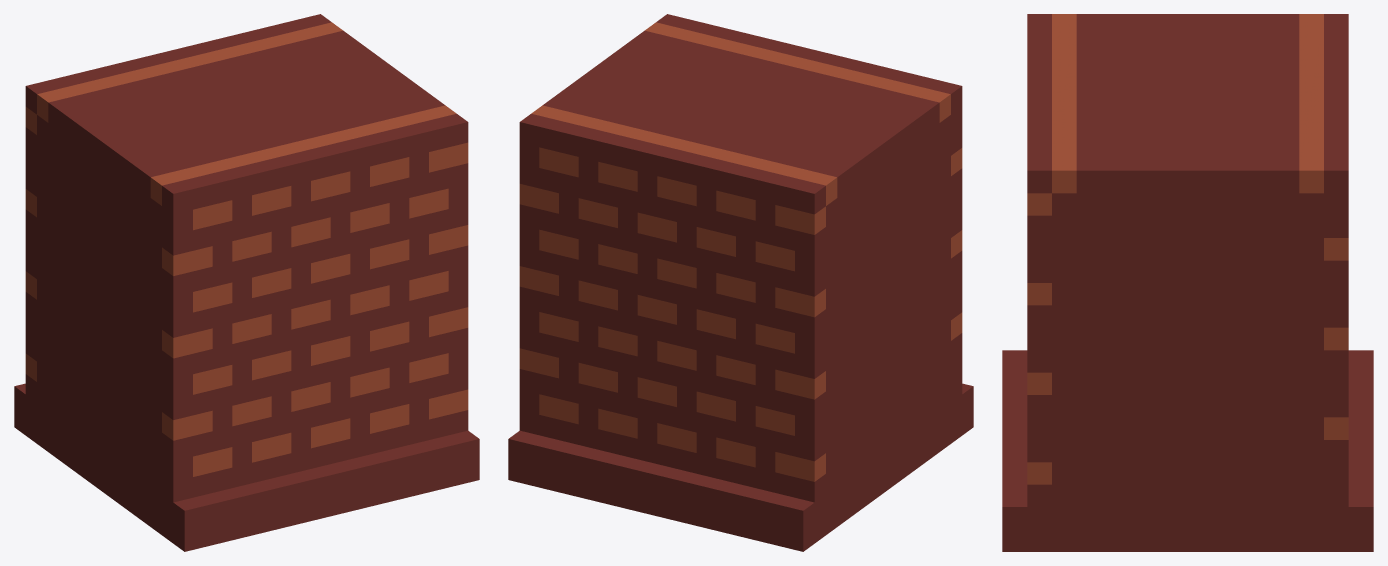
Rendered from dungeon_b_a_inner_wall_segment_a.obj.
The picture shows the model from 3 angles, left to right: view 1: azimuth 30°, elevation 25°; view 2: azimuth 150°, elevation 25°; view 3: azimuth 270°, elevation 25°; orthographic projection. The views are drawn at different scales.
Size of the model in its own units: 1.5 by 1.7 by 1.5.
Materials: 1 (1 with a texture image).
